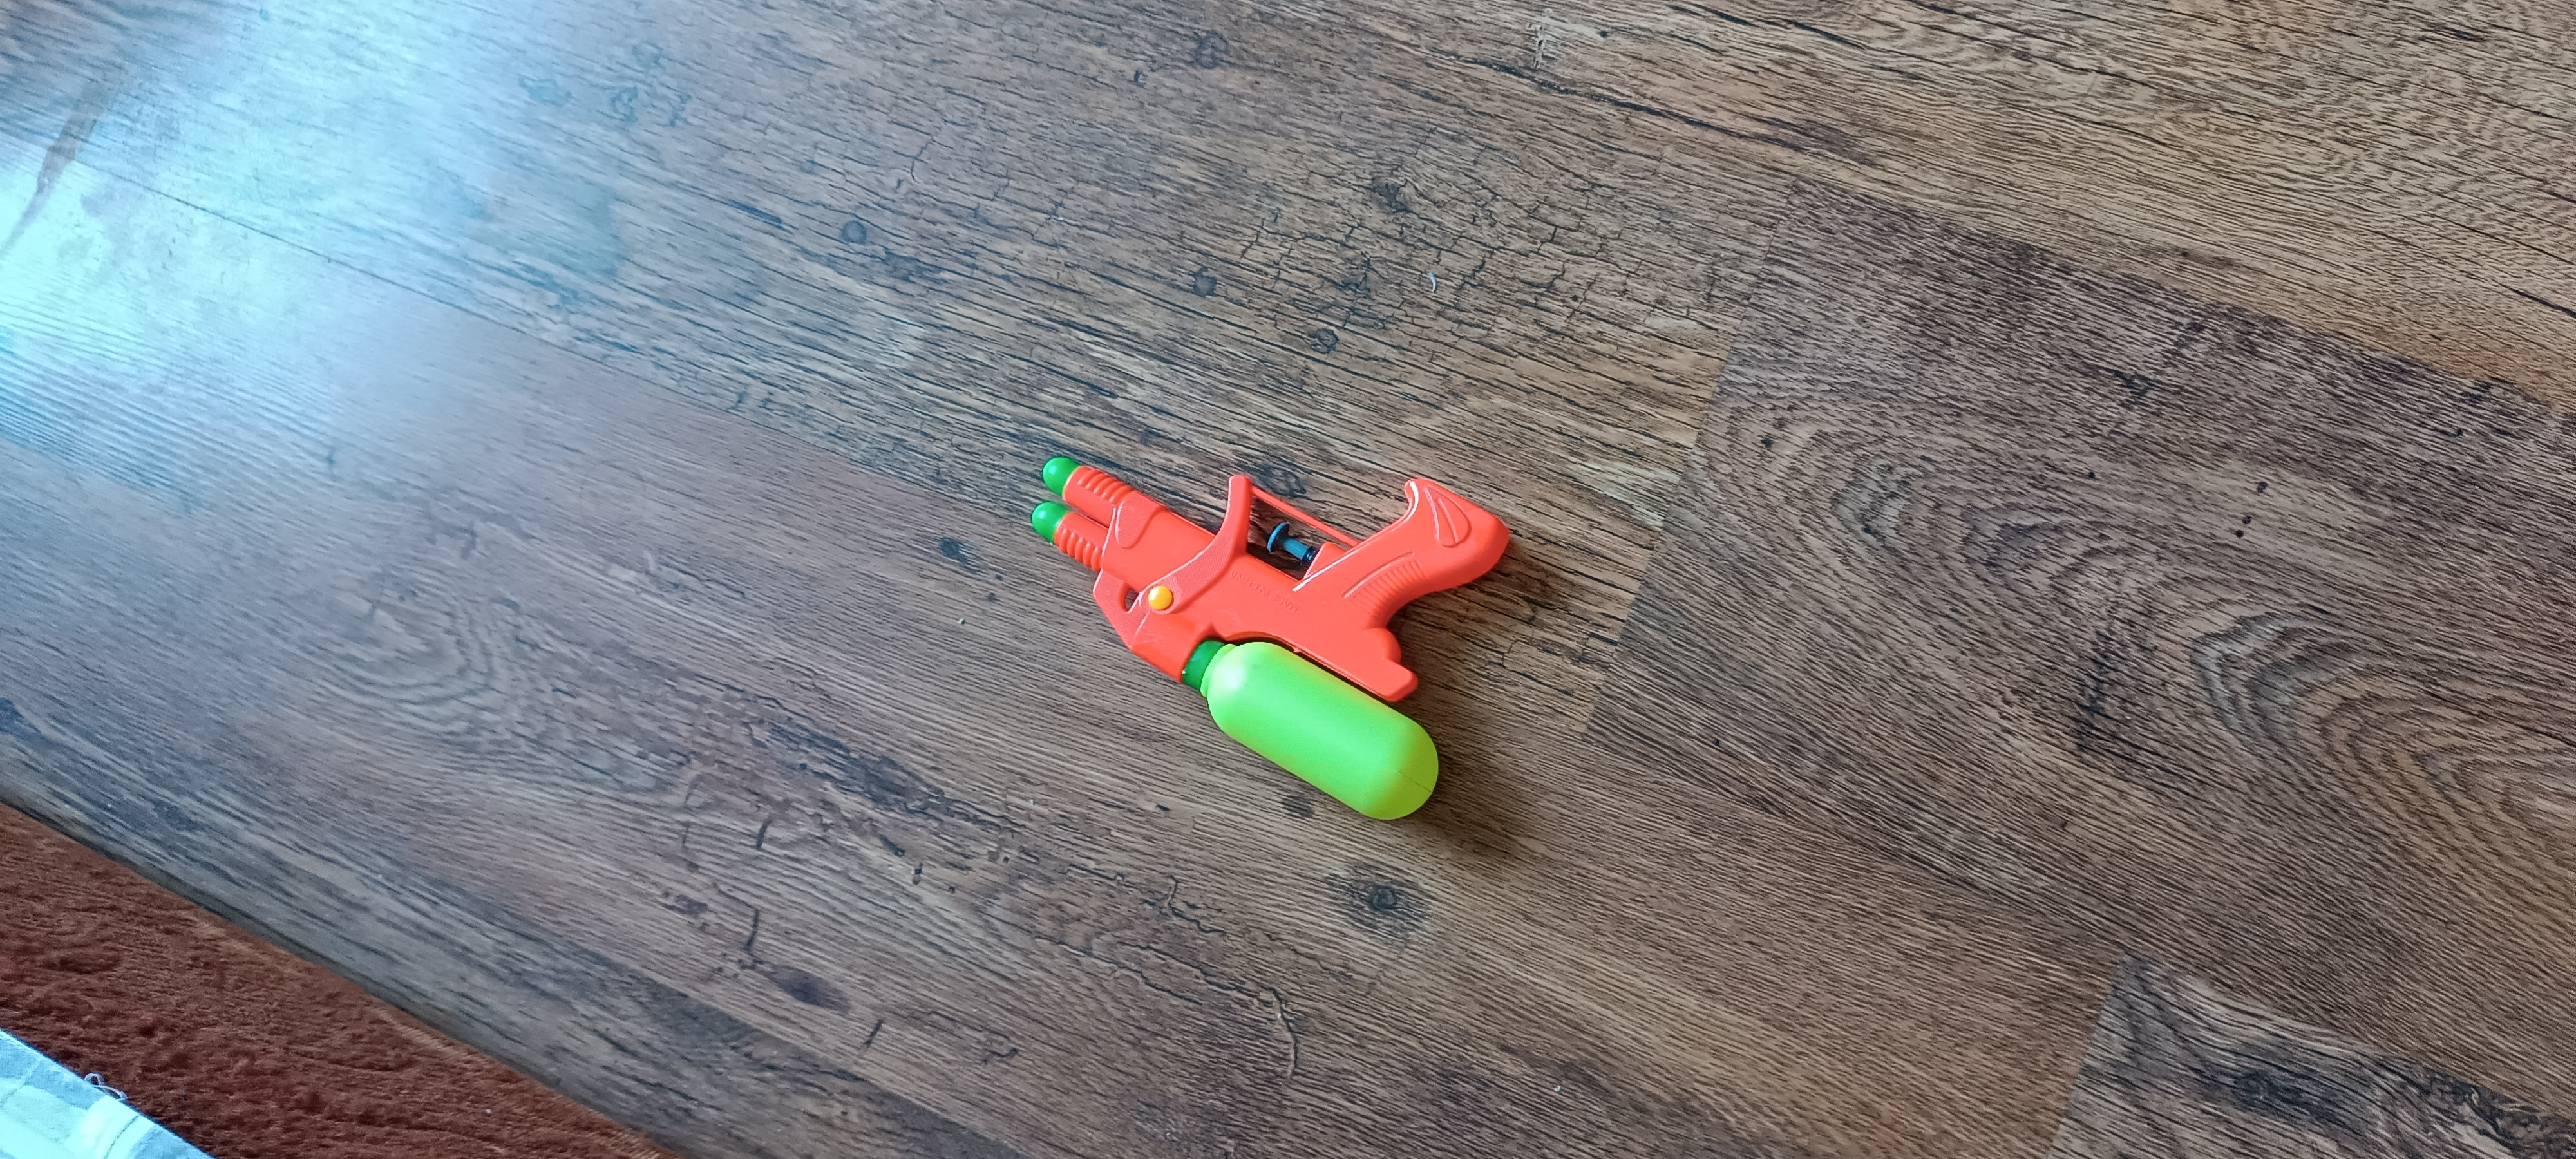Water Gun: (1032, 455, 1510, 822)
